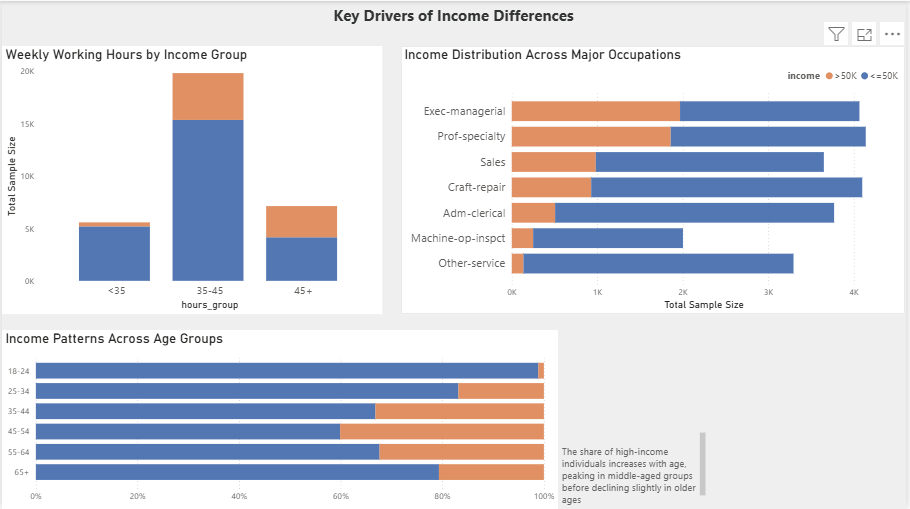

Layout of this report page (visuals, bound fields, positions):
{"tool":"powerbi","page":{"name":"Drivers","canvas":[1280,720],"ordinal":1},"visuals":[{"type":"columnChart","title":"Weekly Working Hours by Income Group","fields":{"Category":["fact_Adult_clean.hours_group"],"Series":["fact_Adult_clean.income"],"Y":["fact_Adult_clean.Total Sample Size"]},"box":[0,63.8,538.6,379.8],"z":0},{"type":"textbox","box":[0,0,1280,42.9],"z":1000},{"type":"barChart","title":"Income Distribution Across Major Occupations","fields":{"Category":["fact_Adult_clean.occupation"],"Series":["fact_Adult_clean.income"],"Y":["fact_Adult_clean.Total Sample Size"]},"box":[565.5,63.8,714.3,379.8],"z":2000},{"type":"hundredPercentStackedBarChart","title":"Income Patterns Across Age Groups","fields":{"Category":["fact_Adult_clean.age_group"],"Y":["fact_Adult_clean.Total Sample Size"],"Series":["fact_Adult_clean.income"]},"box":[0,466.3,788,253.7],"z":3000},{"type":"textbox","box":[788,606.6,214,113.4],"z":4000}]}

Visuals, with their boxes in screenshot pixels (x1, y1, x2, y2), scaled from the page's 1280x720 canvas onto the 910x509 screenshot:
"Weekly Working Hours by Income Group" columnChart: detection(0, 45, 383, 314)
textbox: detection(0, 0, 909, 30)
"Income Distribution Across Major Occupations" barChart: detection(402, 45, 909, 314)
"Income Patterns Across Age Groups" hundredPercentStackedBarChart: detection(0, 330, 560, 508)
textbox: detection(560, 429, 712, 508)
